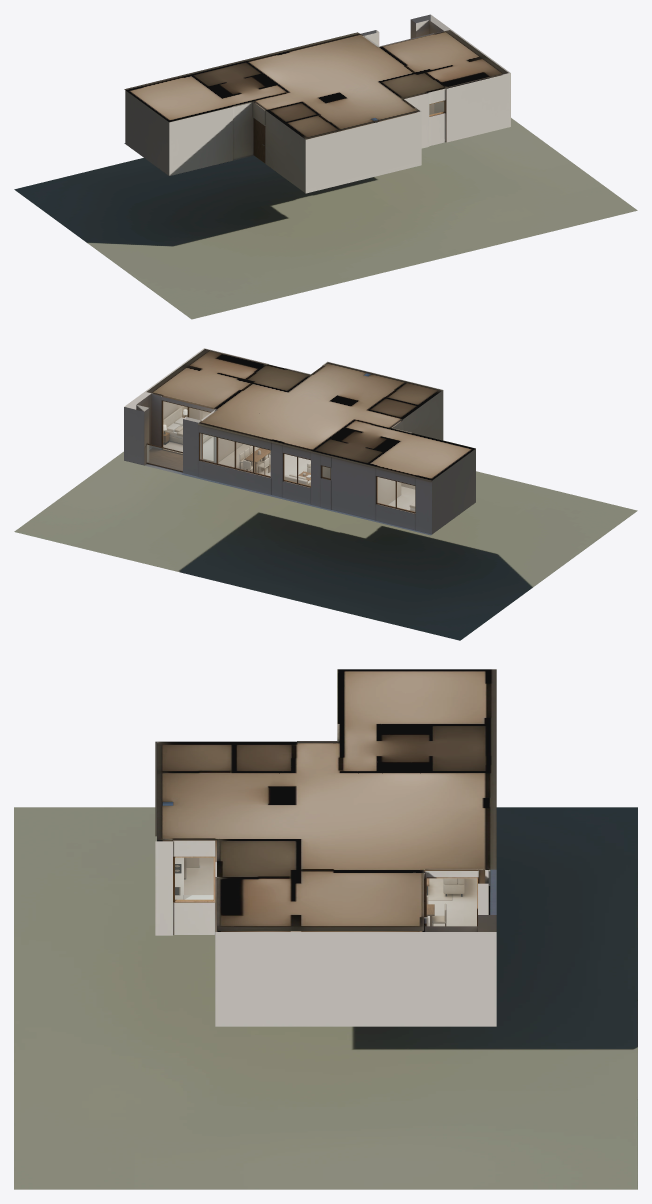
The picture shows the model from 3 angles, top to bottom: view 1: azimuth 30°, elevation 25°; view 2: azimuth 150°, elevation 25°; view 3: azimuth 270°, elevation 25°; orthographic projection. The views are drawn at different scales.
Visible parts, largest first — view 1: D8_piso, D8_muros, D8_carp; view 2: D8_piso, D8_muros, D8_vidrio, D8_carp, D8_muebles; view 3: D8_piso, D8_muros, D8_vidrio, D8_muebles, D8_carp.
Part boxes in pixels (bbox=[...]): D8_piso: bbox=[14, 118, 637, 319]; D8_muros: bbox=[124, 14, 510, 193]; D8_carp: bbox=[253, 88, 447, 162]; D8_piso: bbox=[14, 411, 637, 640]; D8_muros: bbox=[124, 348, 475, 534]; D8_vidrio: bbox=[147, 401, 414, 511]; D8_carp: bbox=[146, 400, 415, 513]; D8_muebles: bbox=[163, 373, 415, 511]; D8_piso: bbox=[14, 807, 637, 1189]; D8_muros: bbox=[155, 669, 496, 1026]; D8_vidrio: bbox=[175, 858, 476, 925]; D8_muebles: bbox=[162, 802, 464, 926]; D8_carp: bbox=[173, 856, 488, 931].
Size of the model in its own units: 25.58 by 6.17 by 17.64.
Materials: 5 (4 with a texture image).
